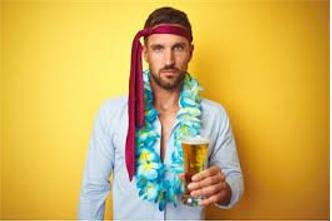Drunk: (150, 32, 186, 86)
